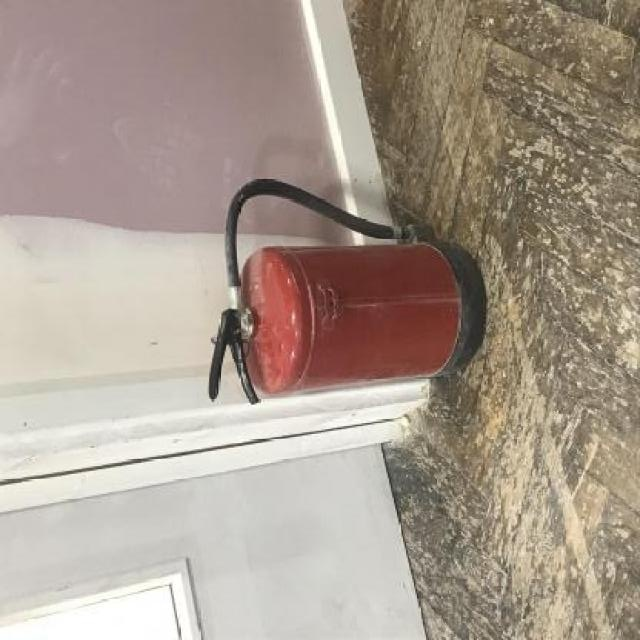fire extinguisher: (208, 178, 486, 407)
